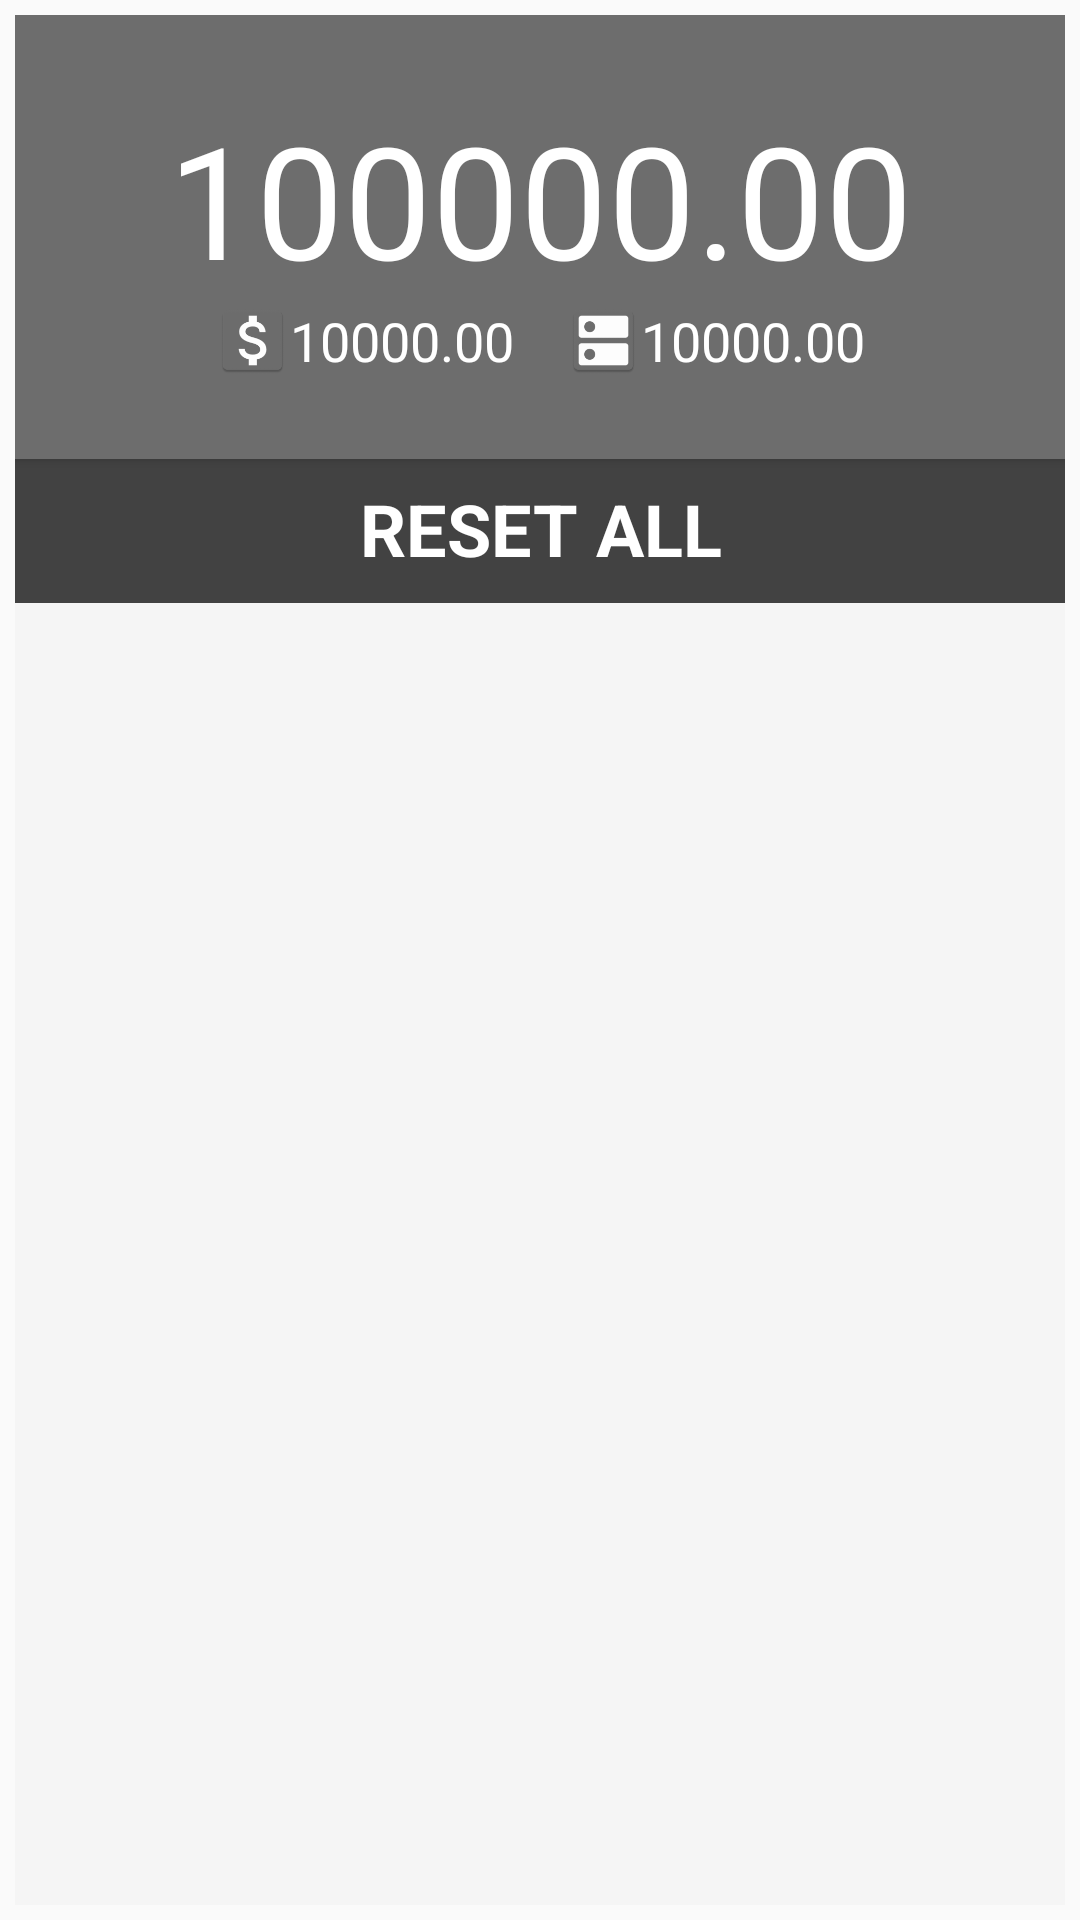

Where icons sit on this 1080*1920 app screen, as {"left": x1, "top": y1, "right": x2, "bottom": y2}:
cash: {"left": 238, "top": 315, "right": 267, "bottom": 366}
